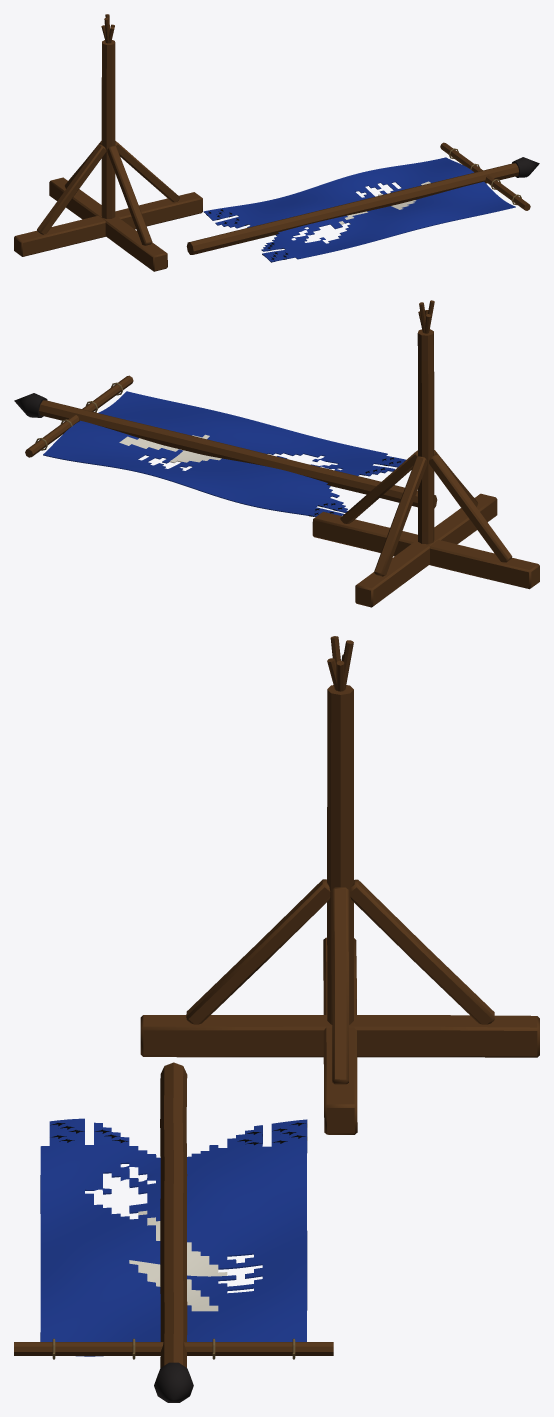
The model's file is banner_blau_kaputt.glb.
3 renders of one model, top to bottom at view 1: azimuth 30°, elevation 25°; view 2: azimuth 150°, elevation 25°; view 3: azimuth 270°, elevation 25°, orthographic. The views are drawn at different scales.
Visible parts, largest first — view 1: banner_blau_kaputt; view 2: banner_blau_kaputt; view 3: banner_blau_kaputt.
Boxes of the visible parts, x1,y1,x2,y2 form: banner_blau_kaputt: [14, 14, 539, 271]; banner_blau_kaputt: [14, 300, 539, 607]; banner_blau_kaputt: [14, 636, 539, 1402].
Bounding box in the file's own units: 3.16 × 1.38 × 1.58.
